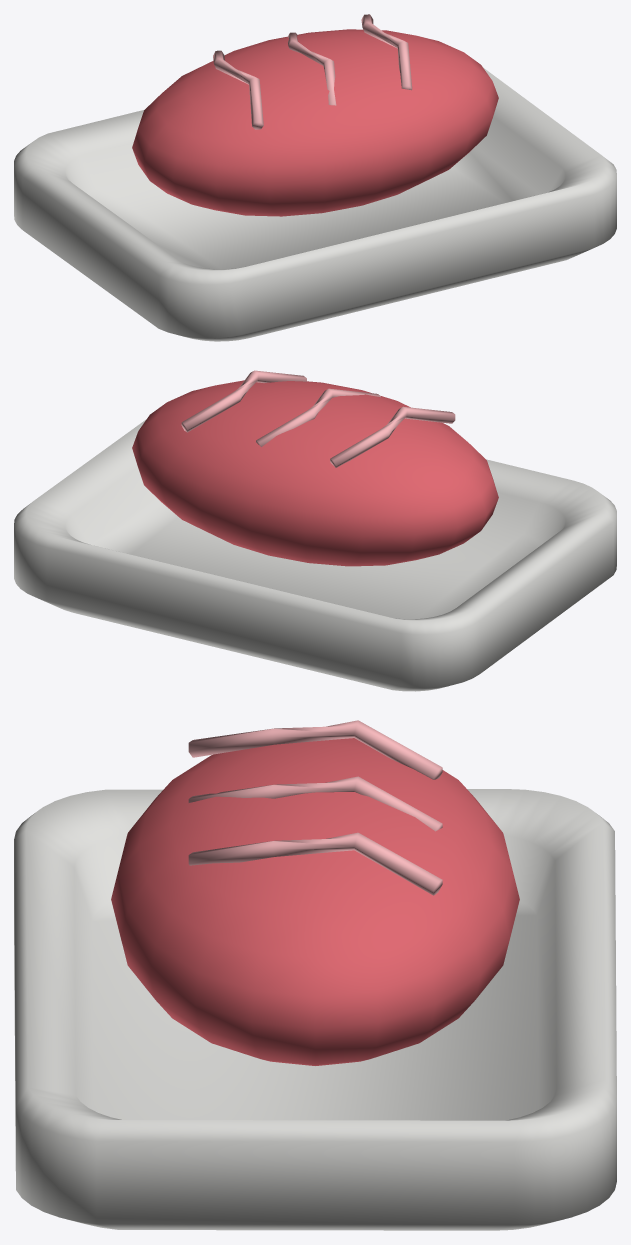
File: pork.glb
3 views of the same model, one above another, from view 1: azimuth 30°, elevation 25°; view 2: azimuth 150°, elevation 25°; view 3: azimuth 270°, elevation 25° (orthographic). The views are drawn at different scales.
Visible parts, largest first — view 1: body, meat, marbling, marbling.002, marbling.001; view 2: body, meat, marbling, marbling.002, marbling.001; view 3: body, meat, marbling, marbling.002, marbling.001.
Part boxes in pixels (x1,y1,x2,y2): body: [14, 67, 616, 341]; meat: [132, 29, 498, 216]; marbling: [213, 50, 263, 129]; marbling.002: [361, 14, 412, 90]; marbling.001: [287, 32, 336, 105]; body: [14, 419, 616, 691]; meat: [132, 380, 498, 566]; marbling: [330, 406, 455, 467]; marbling.002: [181, 370, 306, 432]; marbling.001: [256, 388, 380, 446]; body: [14, 789, 616, 1230]; meat: [111, 738, 519, 1065]; marbling: [188, 720, 442, 779]; marbling.002: [188, 832, 442, 895]; marbling.001: [188, 776, 442, 831].
Size of the model in its own units: 0.8 by 0.3144 by 0.59.
